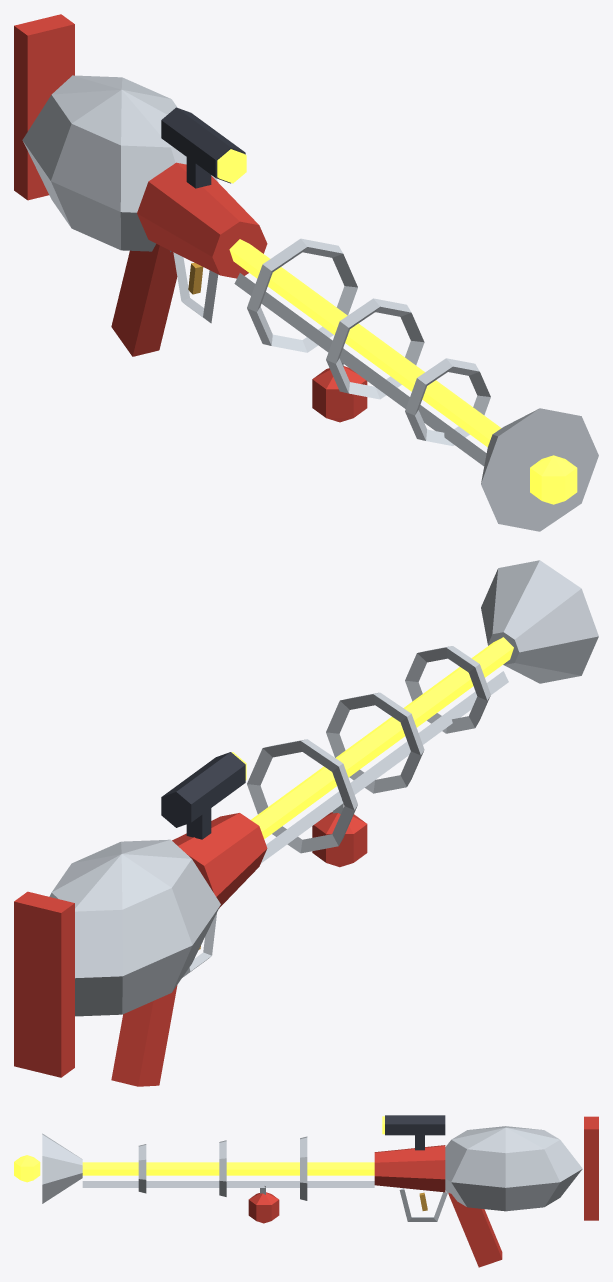
Rendered from Wpn_Blaster_HeatRay.fbx.
3 views of the same model, one above another, from view 1: azimuth 30°, elevation 25°; view 2: azimuth 150°, elevation 25°; view 3: azimuth 270°, elevation 25° (orthographic). The views are drawn at different scales.
Parts seen in each view (by area): view 1: Wpn_Blaster_HeatRay_Body, Wpn_Blaster_HeatRay_Hoops, Wpn_Blaster_HeatRay_Ray; view 2: Wpn_Blaster_HeatRay_Body, Wpn_Blaster_HeatRay_Hoops, Wpn_Blaster_HeatRay_Ray; view 3: Wpn_Blaster_HeatRay_Body, Wpn_Blaster_HeatRay_Ray, Wpn_Blaster_HeatRay_Hoops.
Boxes of the visible parts, x1=… form: Wpn_Blaster_HeatRay_Body: x1=14, y1=14, x2=598, y2=531; Wpn_Blaster_HeatRay_Hoops: x1=247, y1=238, x2=490, y2=445; Wpn_Blaster_HeatRay_Ray: x1=229, y1=239, x2=577, y2=504; Wpn_Blaster_HeatRay_Body: x1=14, y1=560, x2=598, y2=1086; Wpn_Blaster_HeatRay_Hoops: x1=247, y1=646, x2=490, y2=853; Wpn_Blaster_HeatRay_Ray: x1=251, y1=637, x2=513, y2=839; Wpn_Blaster_HeatRay_Body: x1=42, y1=1115, x2=598, y2=1267; Wpn_Blaster_HeatRay_Ray: x1=14, y1=1155, x2=374, y2=1182; Wpn_Blaster_HeatRay_Hoops: x1=138, y1=1136, x2=307, y2=1200.
Bounding box in the file's own units: 0.18 × 0.3258 × 1.16.
